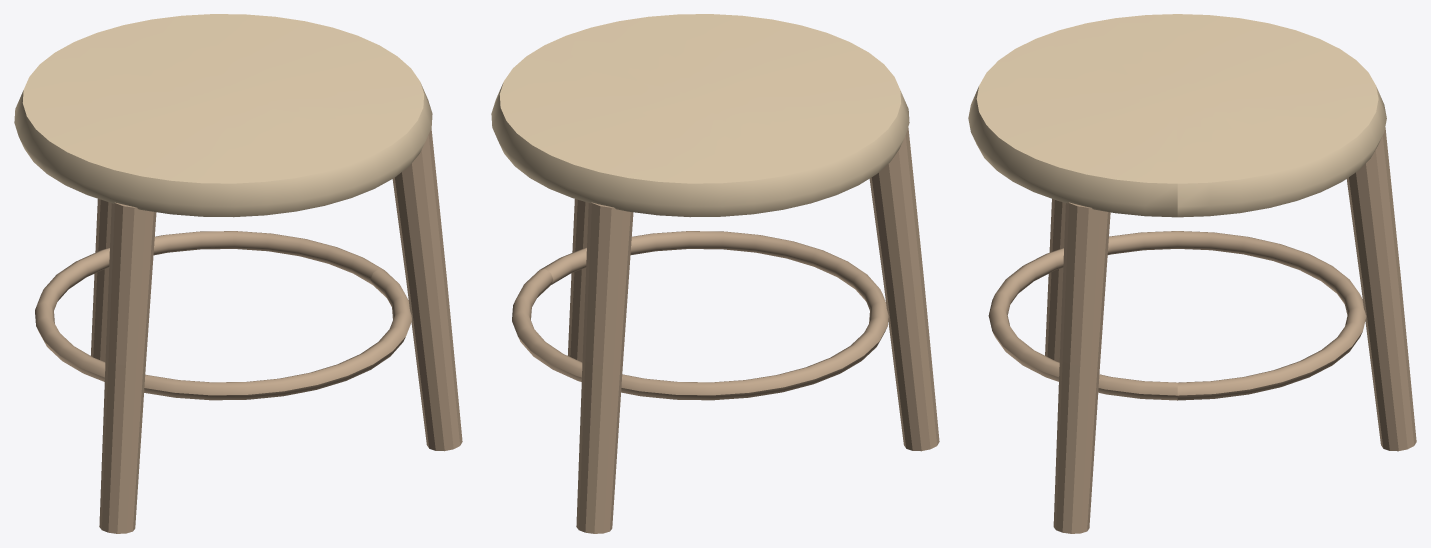
File: jelly-friends-playroom-stool-round-7d4d95de__27643.glb
The picture shows the model from 3 angles, left to right: view 1: azimuth 30°, elevation 25°; view 2: azimuth 150°, elevation 25°; view 3: azimuth 270°, elevation 25°; orthographic projection.
Parts seen in each view (by area): view 1: stool-round; view 2: stool-round; view 3: stool-round.
Boxes of the visible parts, x1,y1,x2,y2 form: stool-round: (14, 14, 462, 533); stool-round: (491, 14, 939, 533); stool-round: (968, 14, 1416, 533).
Bounding box in the file's own units: 0.3523 × 0.3235 × 0.3749.
